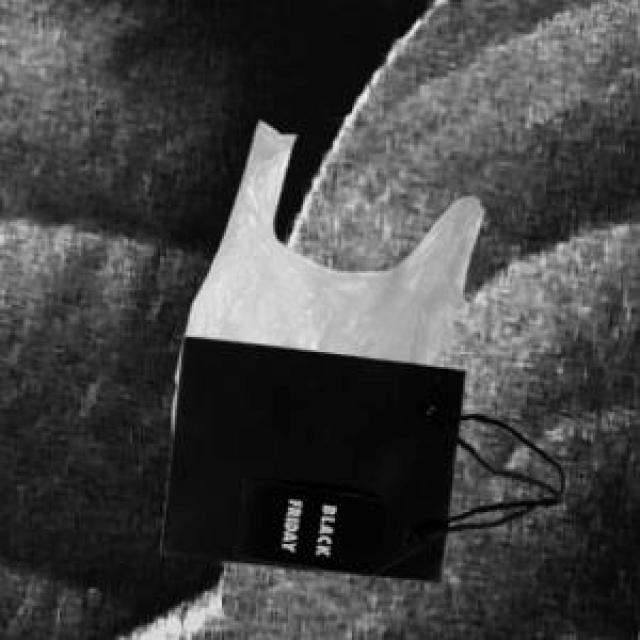paper: (158, 333, 561, 578)
